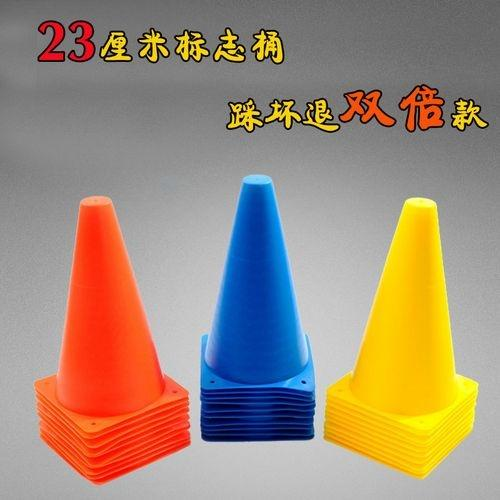cone_barrel: (337, 199, 475, 436), (45, 201, 176, 421), (195, 179, 314, 387)
